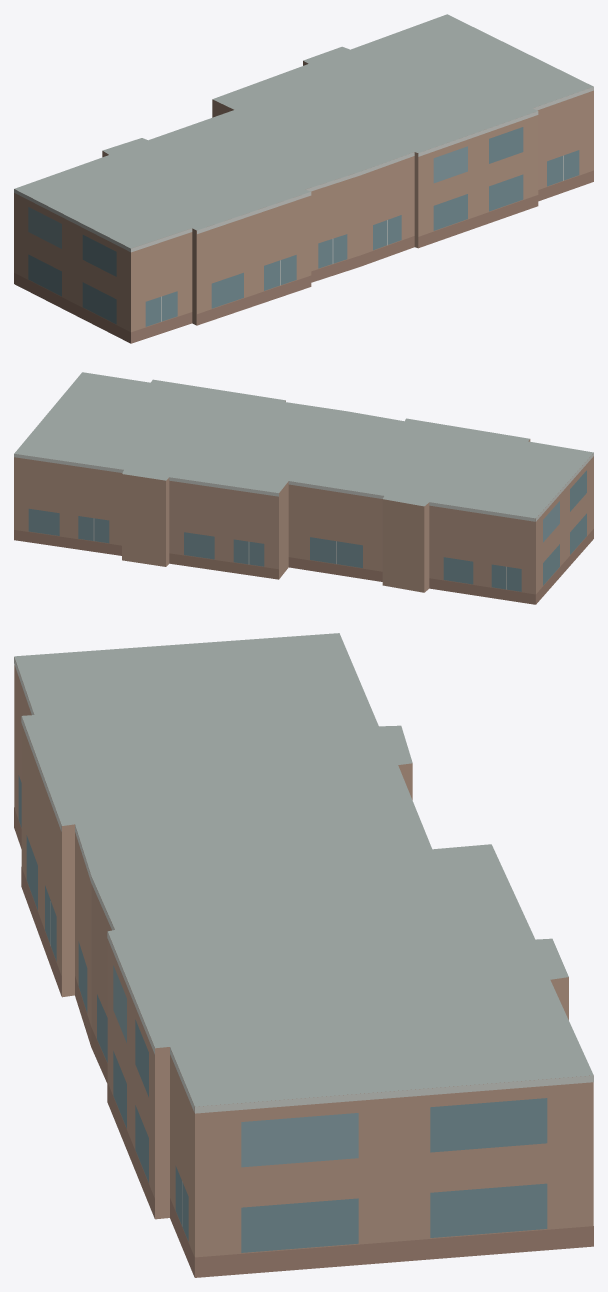
File: survey-upis-32493820.glb
The picture shows the model from 3 angles, top to bottom: view 1: azimuth 30°, elevation 25°; view 2: azimuth 150°, elevation 25°; view 3: azimuth 270°, elevation 25°; orthographic projection. The views are drawn at different scales.
Visible parts, largest first — view 1: survey-upis-32493820.tmp; view 2: survey-upis-32493820.tmp; view 3: survey-upis-32493820.tmp.
Boxes of the visible parts, x1,y1,x2,y2 form: survey-upis-32493820.tmp: (14,14,593,343); survey-upis-32493820.tmp: (14,372,593,604); survey-upis-32493820.tmp: (14,633,593,1277).
Size of the model in its own units: 36.23 by 6.1 by 18.74.
